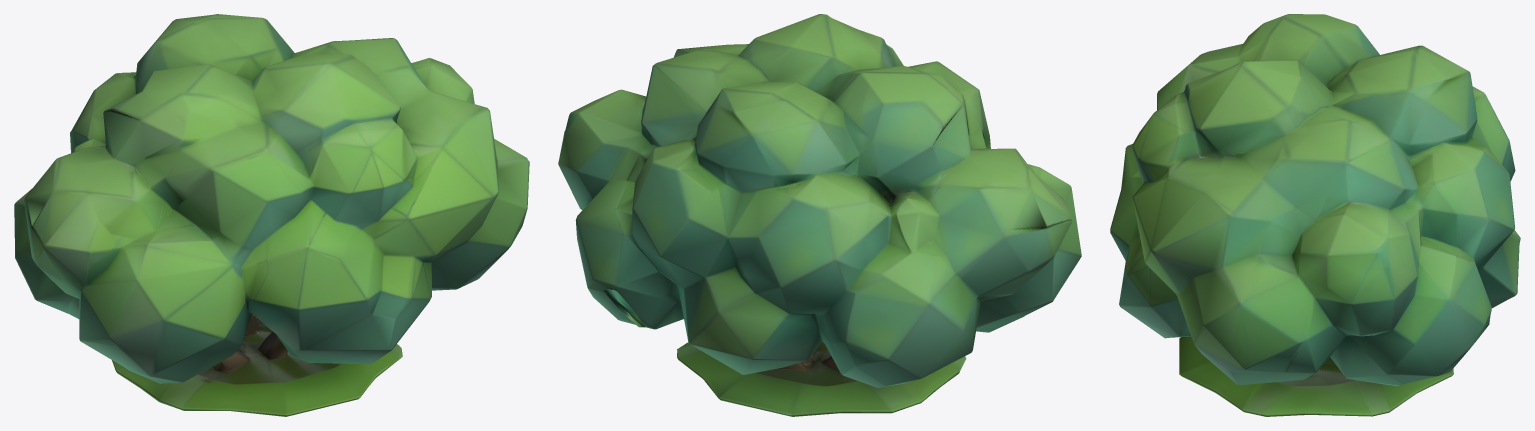
Rendered from Meshy_AI_Geometric_Tree_0131111525_texture.fbx.
3 renders of one model, left to right at view 1: azimuth 30°, elevation 25°; view 2: azimuth 150°, elevation 25°; view 3: azimuth 270°, elevation 25°, orthographic.
Visible parts, largest first — view 1: Mesh_0; view 2: Mesh_0; view 3: Mesh_0.
Boxes of the visible parts, x1=… form: Mesh_0: x1=14, y1=14, x2=529, y2=416; Mesh_0: x1=558, y1=14, x2=1081, y2=416; Mesh_0: x1=1110, y1=14, x2=1520, y2=416.
Size of the model in its own units: 200 by 128 by 151.
1 material, 1 textured.
